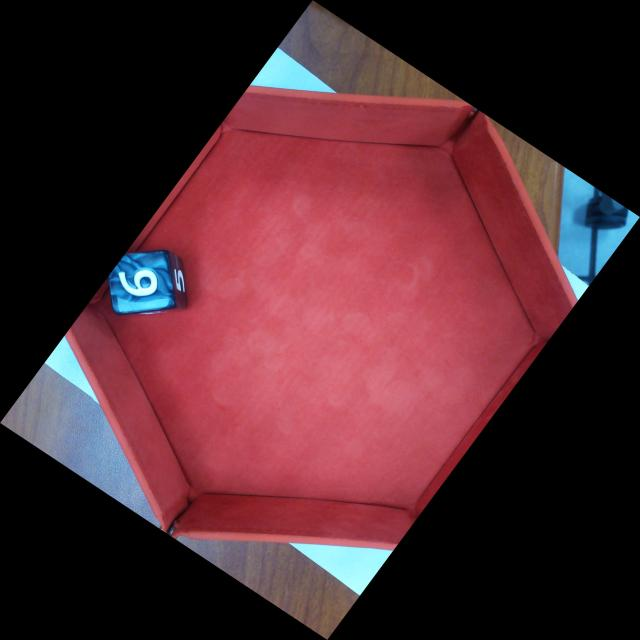dice: (108, 250, 175, 314)
